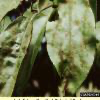Apple Scab Leaf: (45, 0, 96, 93)
